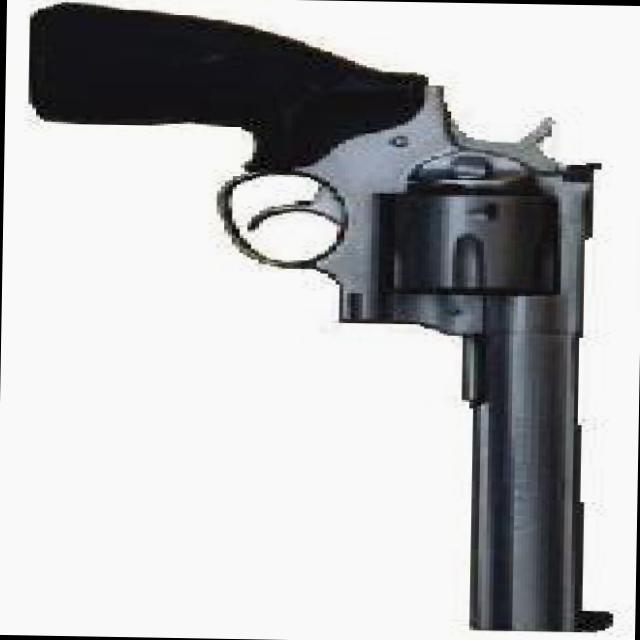handgun: (21, 0, 631, 631)
